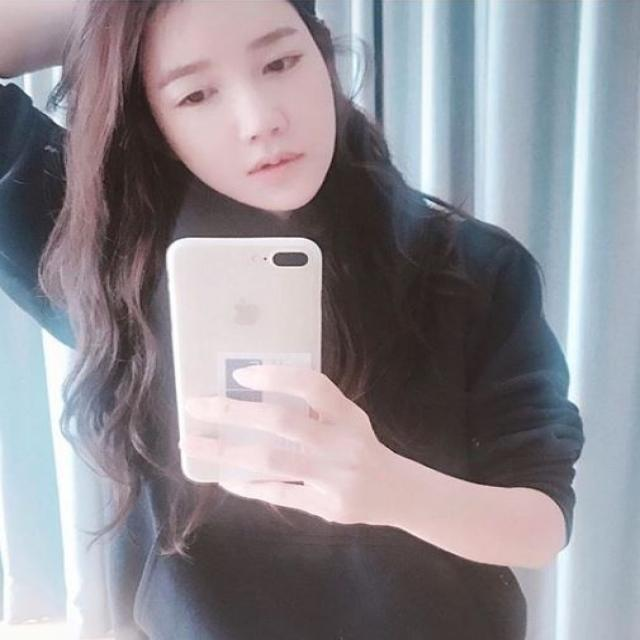phone: (166, 238, 324, 483)
